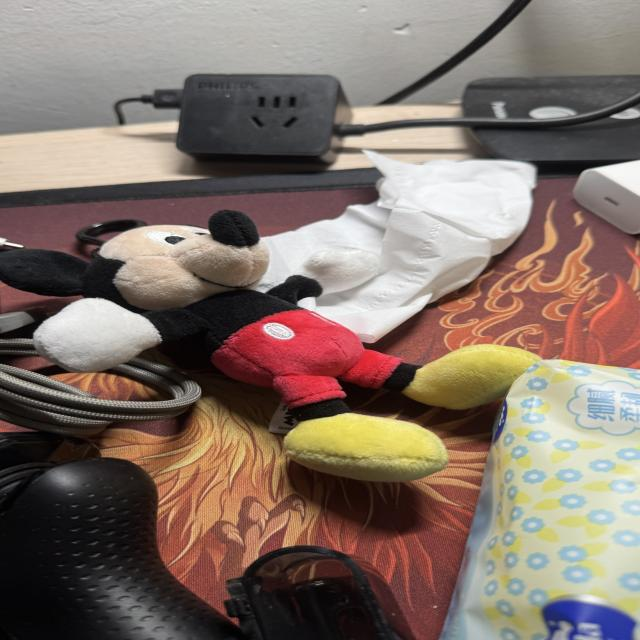mickey: (0, 211, 539, 481)
